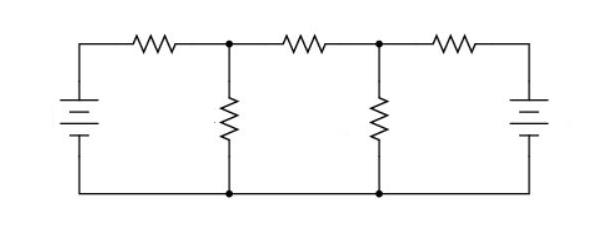resistor: (353, 69, 402, 158), (208, 78, 250, 158), (265, 24, 338, 65), (118, 21, 188, 58)
